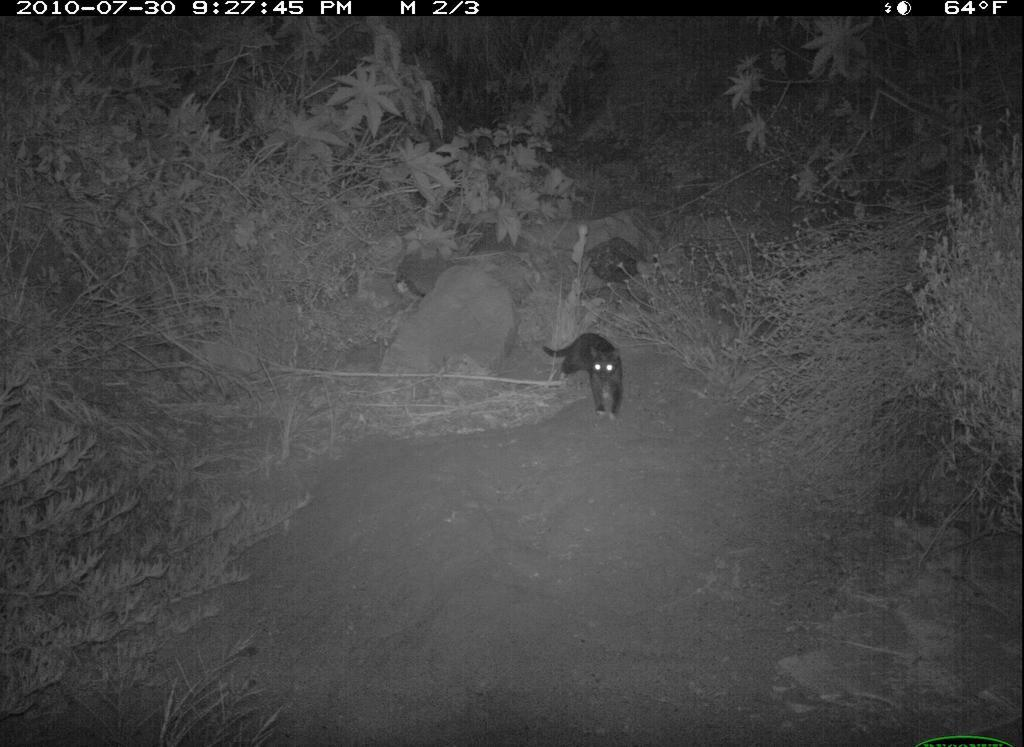cat: (537, 326, 634, 424)
